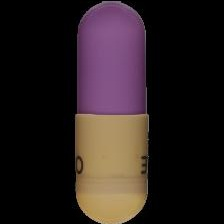68084-466: (0, 0, 224, 224)
